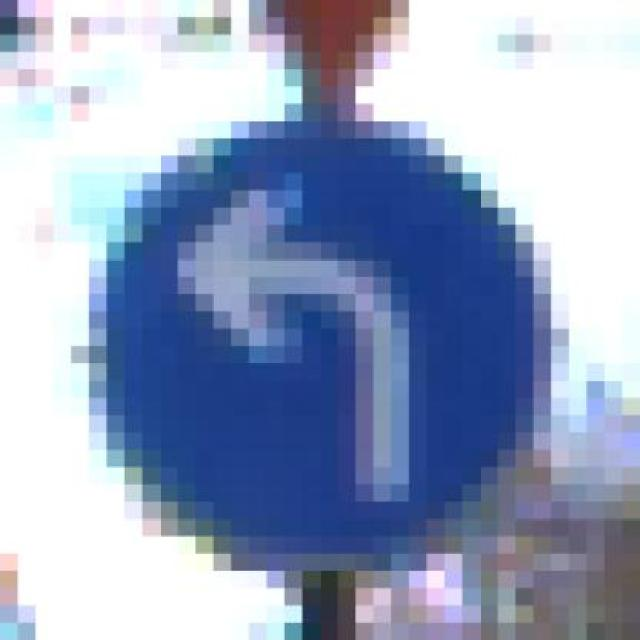Turn left ahead: (89, 86, 569, 588)
